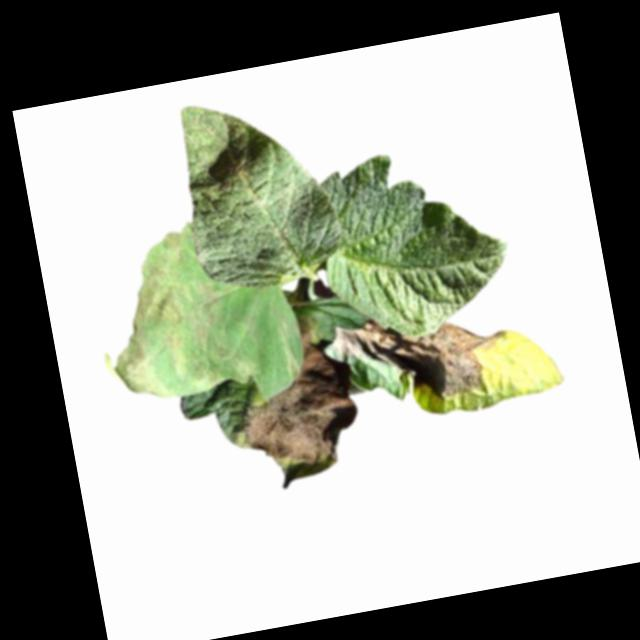Late_blight: (79, 217, 241, 410), (220, 308, 368, 481), (329, 295, 517, 417)
